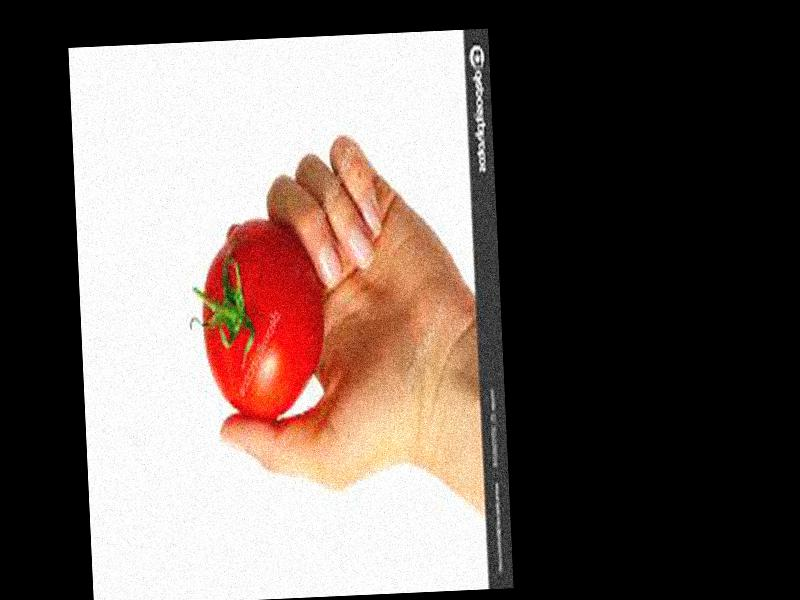Tomato: (197, 220, 328, 421)
